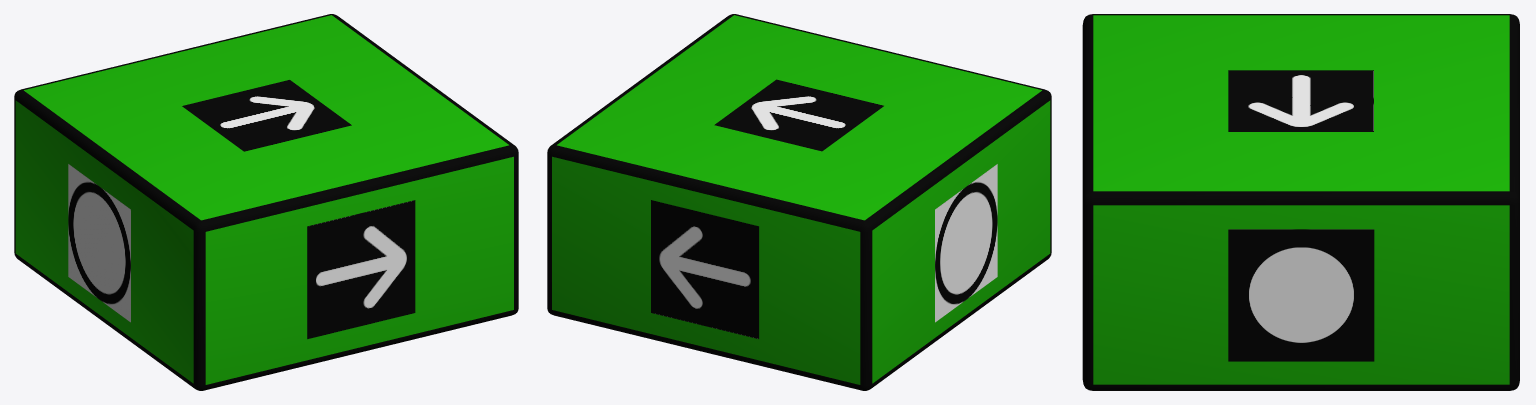
File: BigBoxTapFlowBox_2_1_2_Line.fbx
3 renders of one model, left to right at view 1: azimuth 30°, elevation 25°; view 2: azimuth 150°, elevation 25°; view 3: azimuth 270°, elevation 25°, orthographic. The views are drawn at different scales.
Visible parts, largest first — view 1: BigBoxTapFlowBox_2_1_2; view 2: BigBoxTapFlowBox_2_1_2; view 3: BigBoxTapFlowBox_2_1_2.
Boxes of the visible parts, x1=… form: BigBoxTapFlowBox_2_1_2: x1=14, y1=14, x2=518, y2=390; BigBoxTapFlowBox_2_1_2: x1=547, y1=14, x2=1051, y2=390; BigBoxTapFlowBox_2_1_2: x1=1082, y1=14, x2=1519, y2=390.
Size of the model in its own units: 2.13 by 1.07 by 2.11.
1 material, 1 textured.
